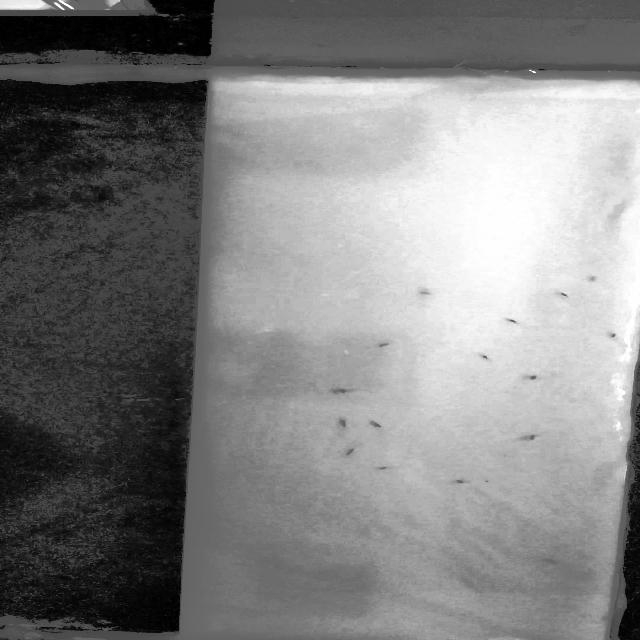shrimp: (333, 384, 372, 398), (478, 352, 504, 371), (550, 288, 576, 300), (362, 416, 384, 430), (334, 416, 354, 429), (499, 316, 523, 326), (373, 341, 401, 349), (586, 274, 604, 286), (415, 286, 434, 297), (524, 431, 542, 442), (608, 329, 623, 342), (525, 372, 541, 384), (340, 447, 359, 457), (452, 479, 470, 488), (540, 558, 558, 564), (377, 466, 396, 471)
